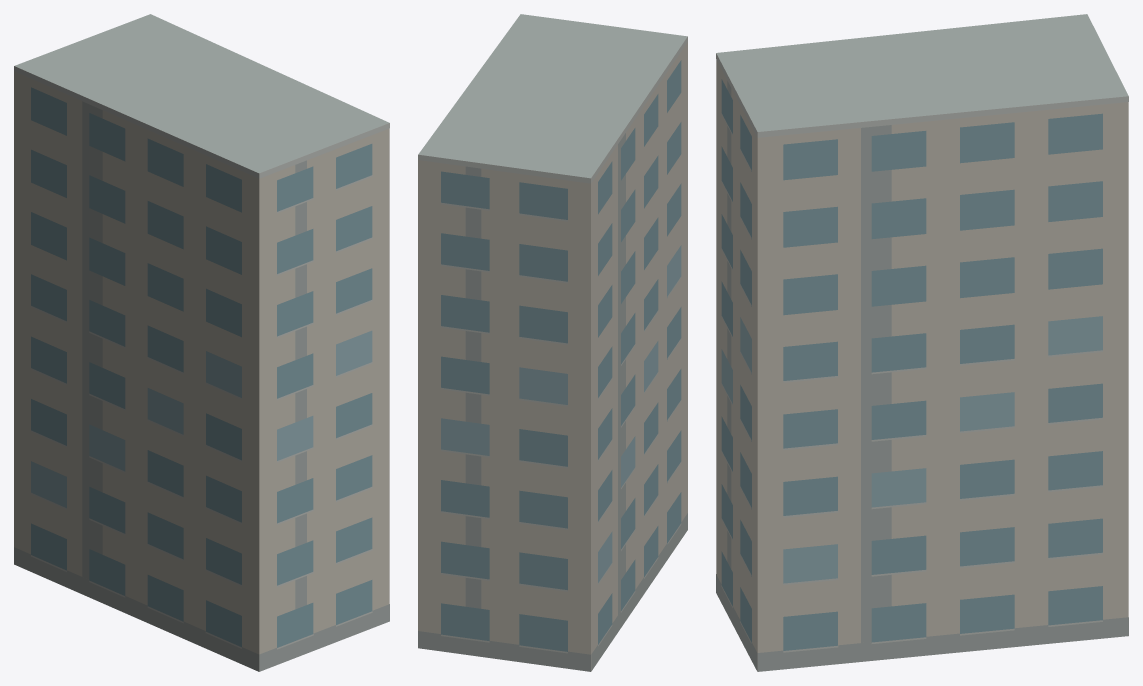
Rendered from survey-upis-32938017.glb.
The picture shows the model from 3 angles, left to right: view 1: azimuth 30°, elevation 25°; view 2: azimuth 150°, elevation 25°; view 3: azimuth 270°, elevation 25°; orthographic projection. The views are drawn at different scales.
Visible parts, largest first — view 1: survey-upis-32938017.tmp; view 2: survey-upis-32938017.tmp; view 3: survey-upis-32938017.tmp.
Part boxes in pixels (x1=…): survey-upis-32938017.tmp: x1=14, y1=14, x2=389, y2=671; survey-upis-32938017.tmp: x1=418, y1=14, x2=687, y2=671; survey-upis-32938017.tmp: x1=716, y1=14, x2=1128, y2=671.
Size of the model in its own units: 10.61 by 22.6 by 15.67.
